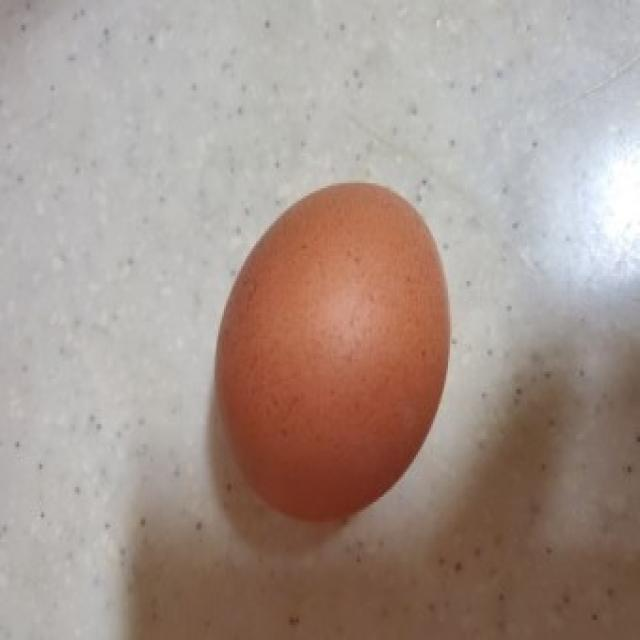eggs: (203, 169, 456, 539)
